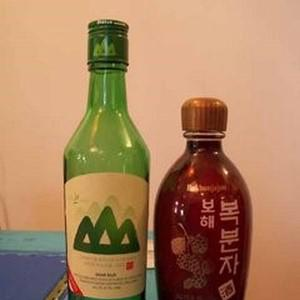soju: (61, 16, 153, 300)
